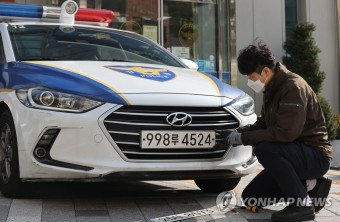car: (140, 129, 218, 149)
